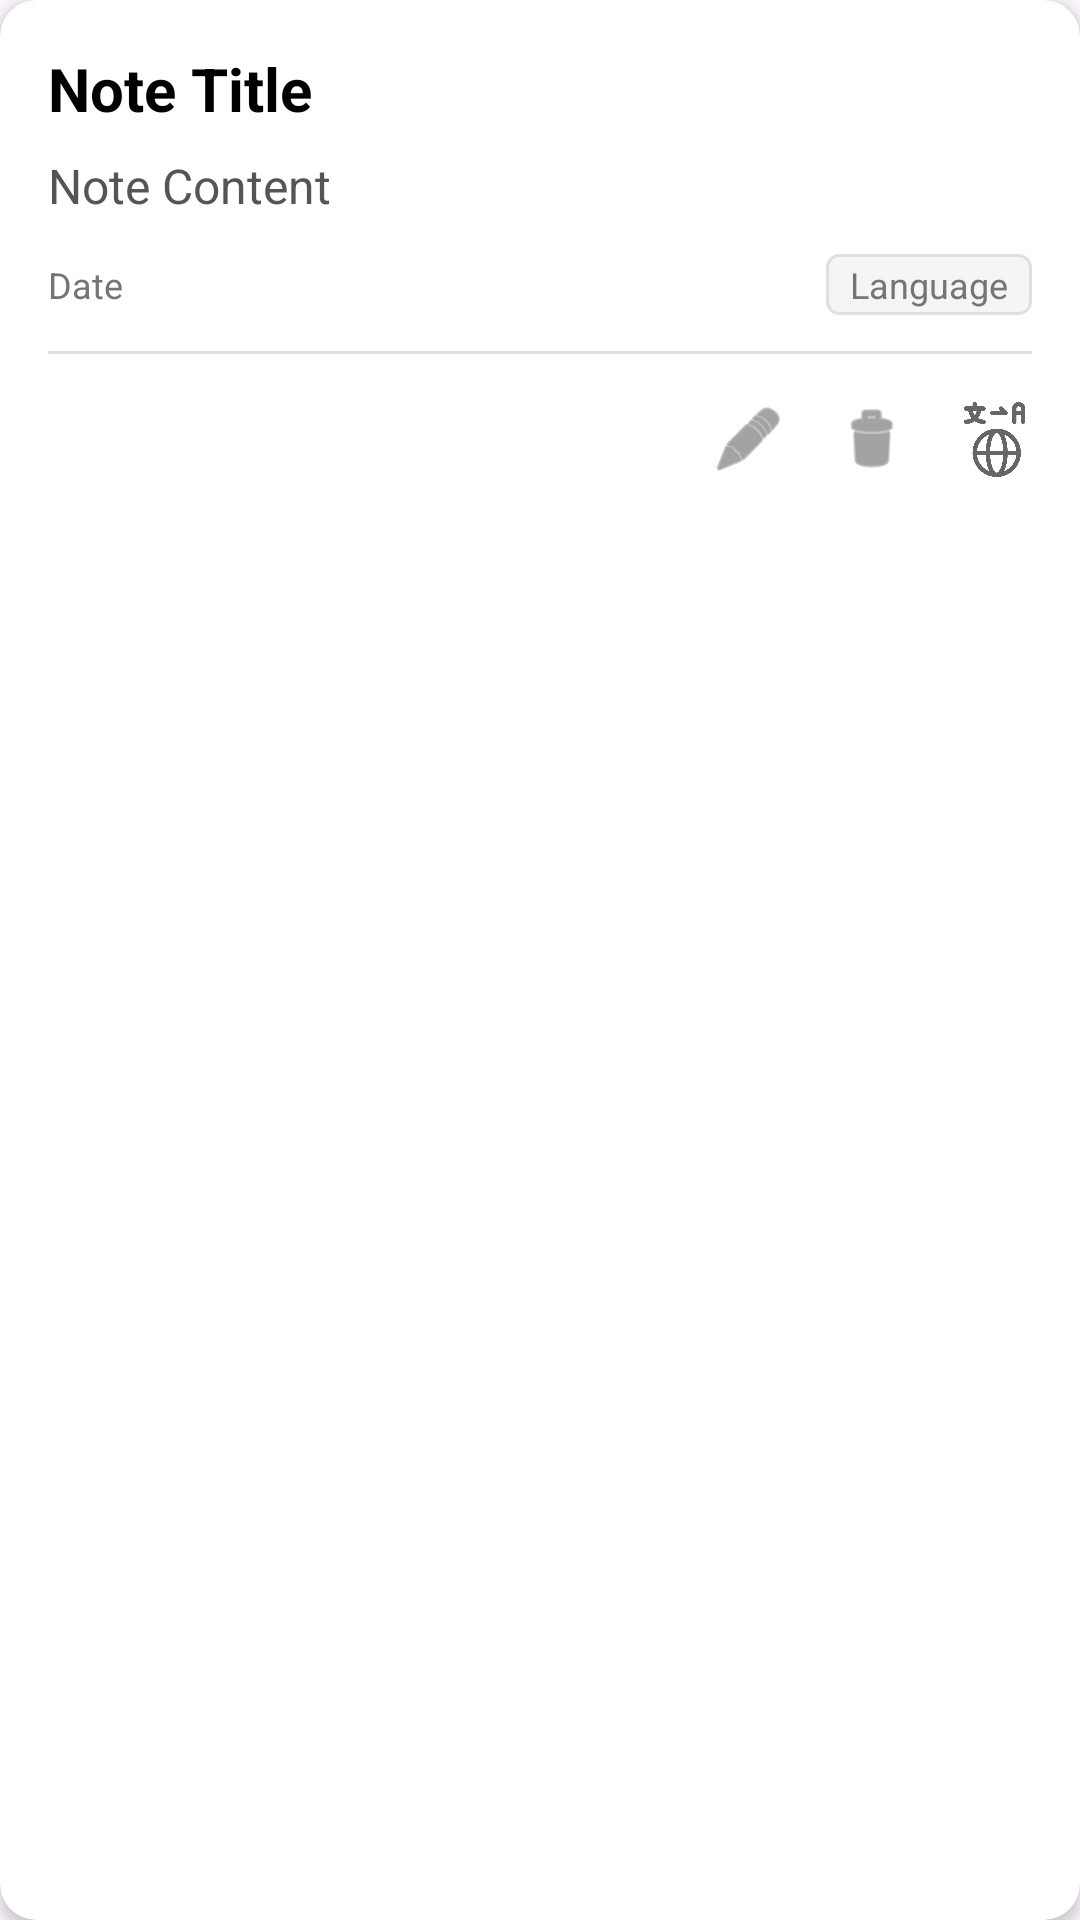

Icons on this 1080x1920 Android screen, each with its box as (x1, y1, x2, y2):
Delete Note: (851, 409, 893, 468)
Edit Note: (717, 407, 780, 471)
Translate Note: (964, 402, 1025, 477)
